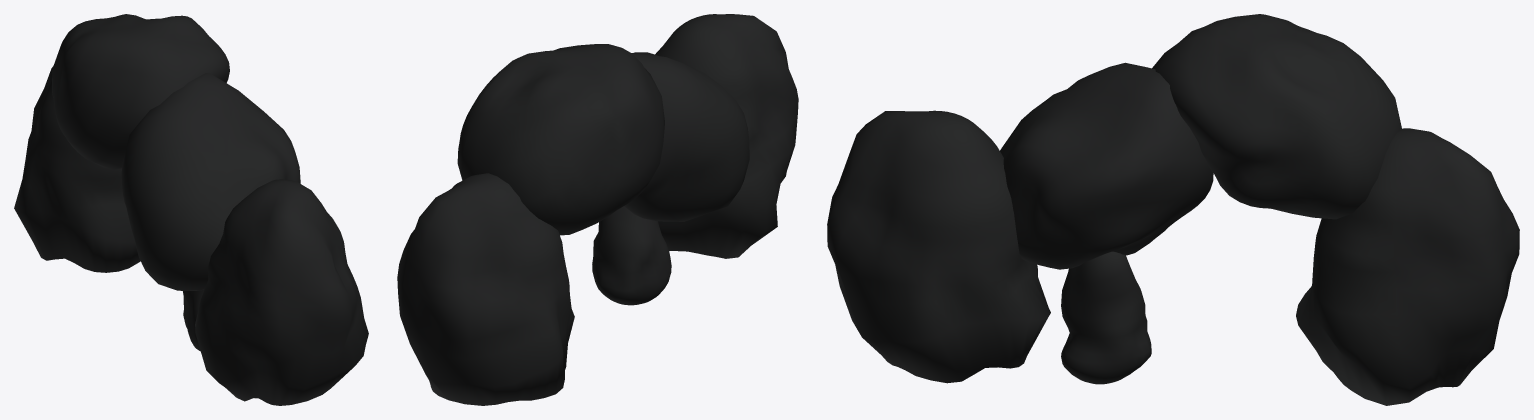
Rendered from StoneWall.fbx.
The picture shows the model from 3 angles, left to right: view 1: azimuth 30°, elevation 25°; view 2: azimuth 150°, elevation 25°; view 3: azimuth 270°, elevation 25°; orthographic projection. The views are drawn at different scales.
Parts seen in each view (by area): view 1: StoneWall; view 2: StoneWall; view 3: StoneWall.
Part boxes in pixels (x1,y1,x2,y2): StoneWall: (14, 14, 368, 405); StoneWall: (397, 14, 798, 405); StoneWall: (827, 14, 1519, 405).
Bounding box in the file's own units: 641 × 1036 × 1923.
